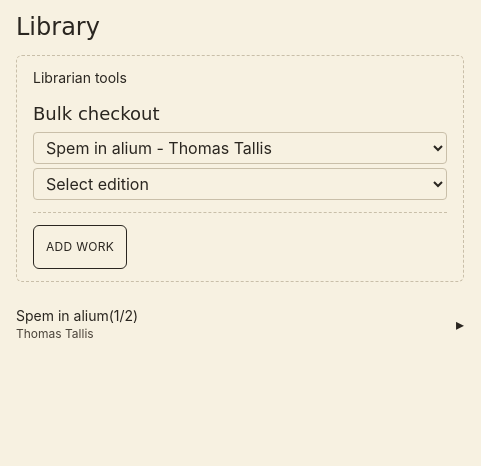
Test case: #76 correction 9 → #207 rule 7: lending dates render as the ISO calendar date, never a raw timestamp › bulk checkout member picker "already lent" date is localized, never raw ISO
Select "Urtext" in the dropdown with test id "bulk-checkout-edition-select" at (240, 184), box [33, 168, 447, 200]
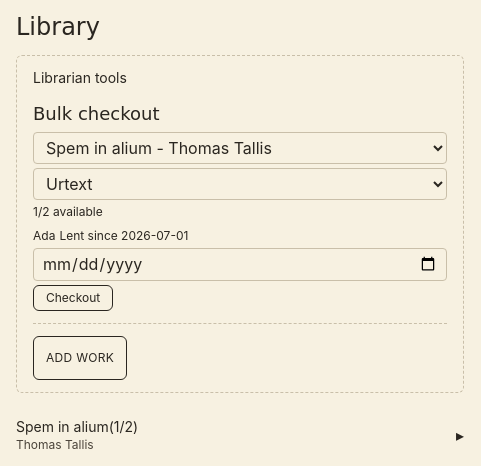
Result: the text "Lent since 2026-07-01" is shown at [59, 228, 188, 244]
Result: the text with test id "bulk-checkout-already-lent-member-a" reads "Lent since 2026-07-01" at [59, 228, 188, 243]
